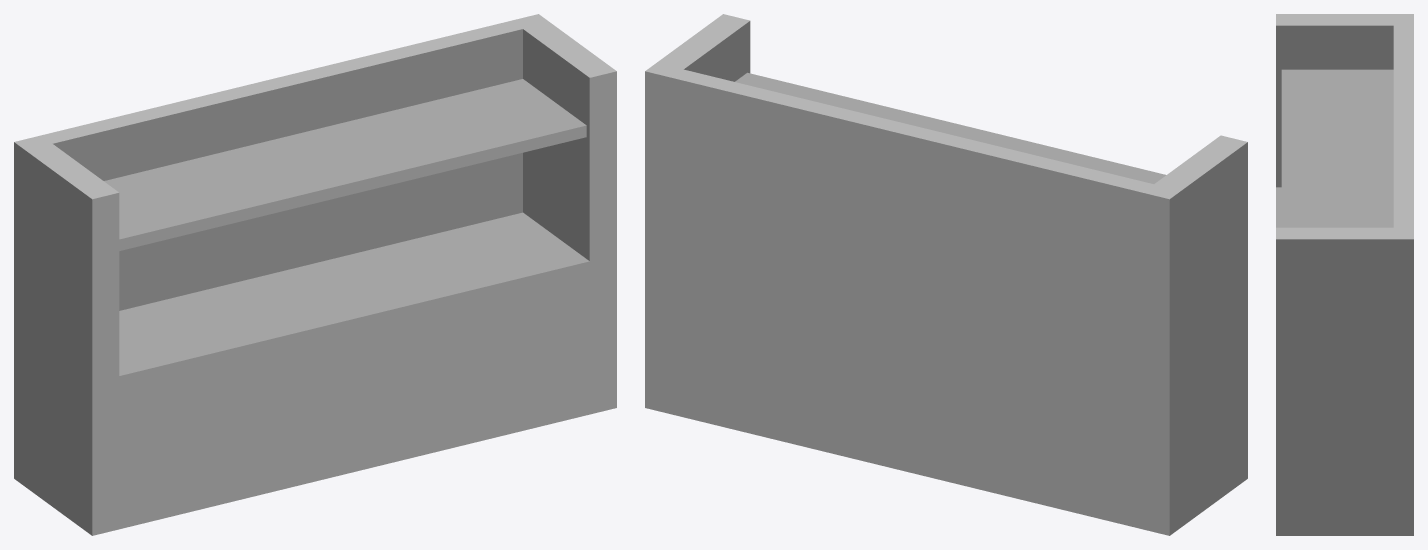
The model's file is Shelf2.glb.
The picture shows the model from 3 angles, left to right: view 1: azimuth 30°, elevation 25°; view 2: azimuth 150°, elevation 25°; view 3: azimuth 270°, elevation 25°; orthographic projection. The views are drawn at different scales.
Visible parts, largest first — view 1: SI_Prop_Shelf_02; view 2: SI_Prop_Shelf_02; view 3: SI_Prop_Shelf_02.
Boxes of the visible parts, x1,y1,x2,y2 form: SI_Prop_Shelf_02: (14, 14, 616, 535); SI_Prop_Shelf_02: (645, 14, 1247, 535); SI_Prop_Shelf_02: (1276, 14, 1413, 535).
Bounding box in the file's own units: 0.0411 × 0.0252 × 0.0106.
1 material, 1 textured.
